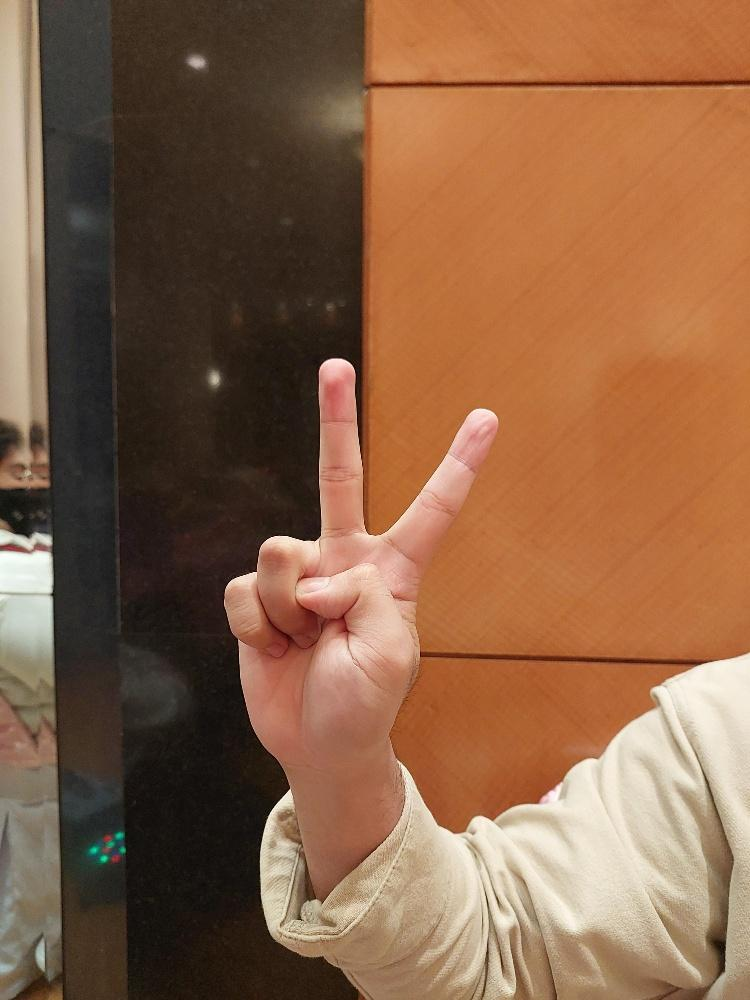v: (215, 353, 501, 758)
